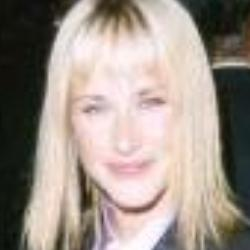face: (11, 1, 242, 231)
